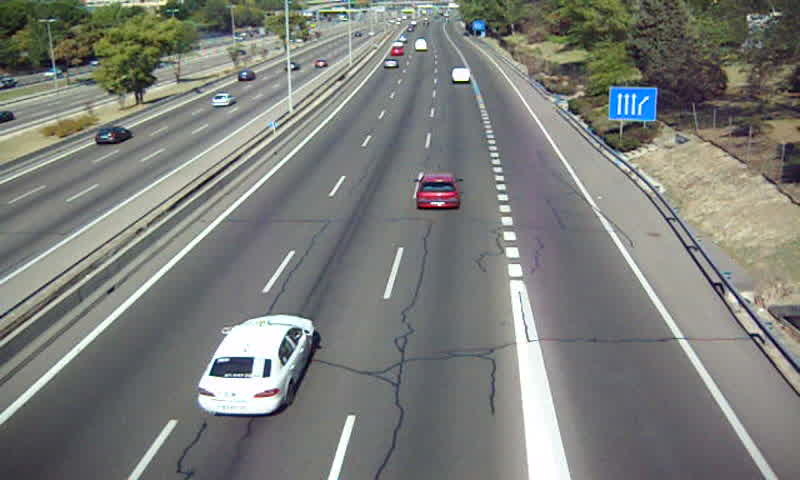car: (199, 316, 314, 415), (415, 173, 461, 209), (383, 57, 399, 69)
van: (451, 67, 472, 82)
